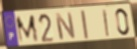0: (115, 8, 130, 36)
2: (38, 13, 55, 44)
I: (80, 10, 90, 41), (102, 9, 110, 38)
M: (14, 13, 40, 44)
N: (54, 12, 77, 42)
